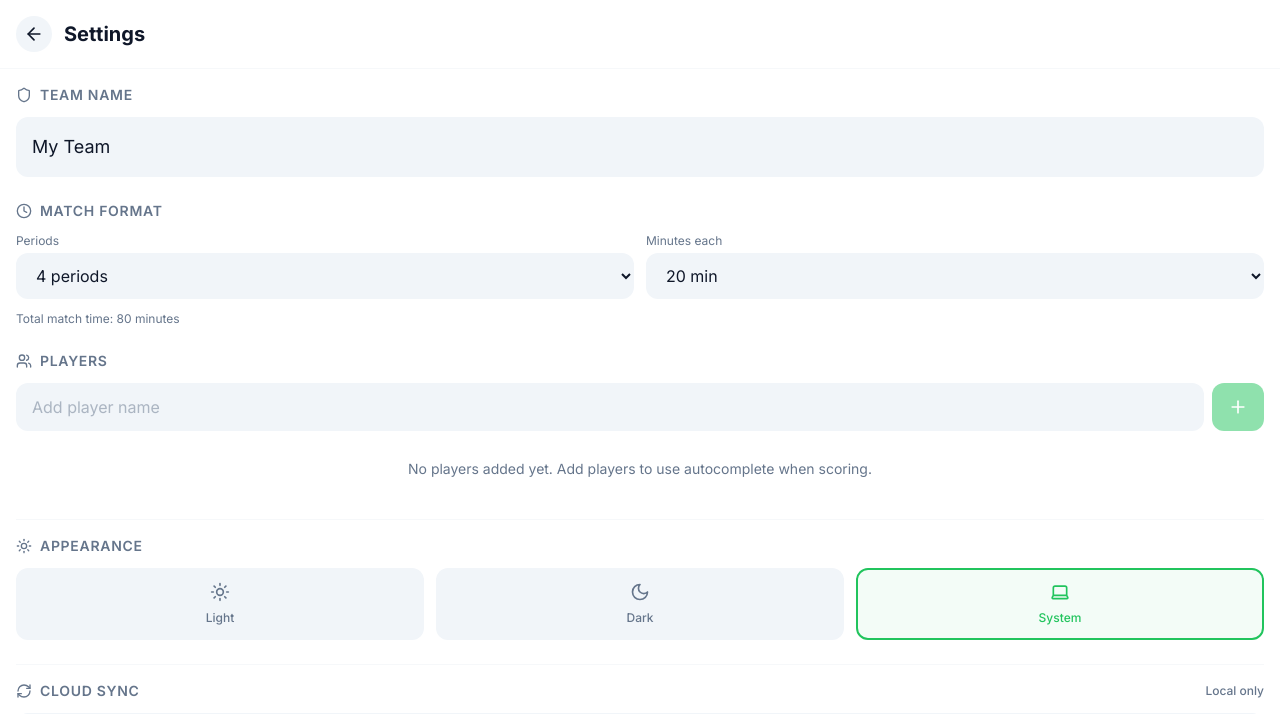
Test: SettingsScreen interactions › clears player draft only after async add succeeds
In the field with placeholder "Add player name": [610, 407] box [16,383,1204,431], type "Alice"
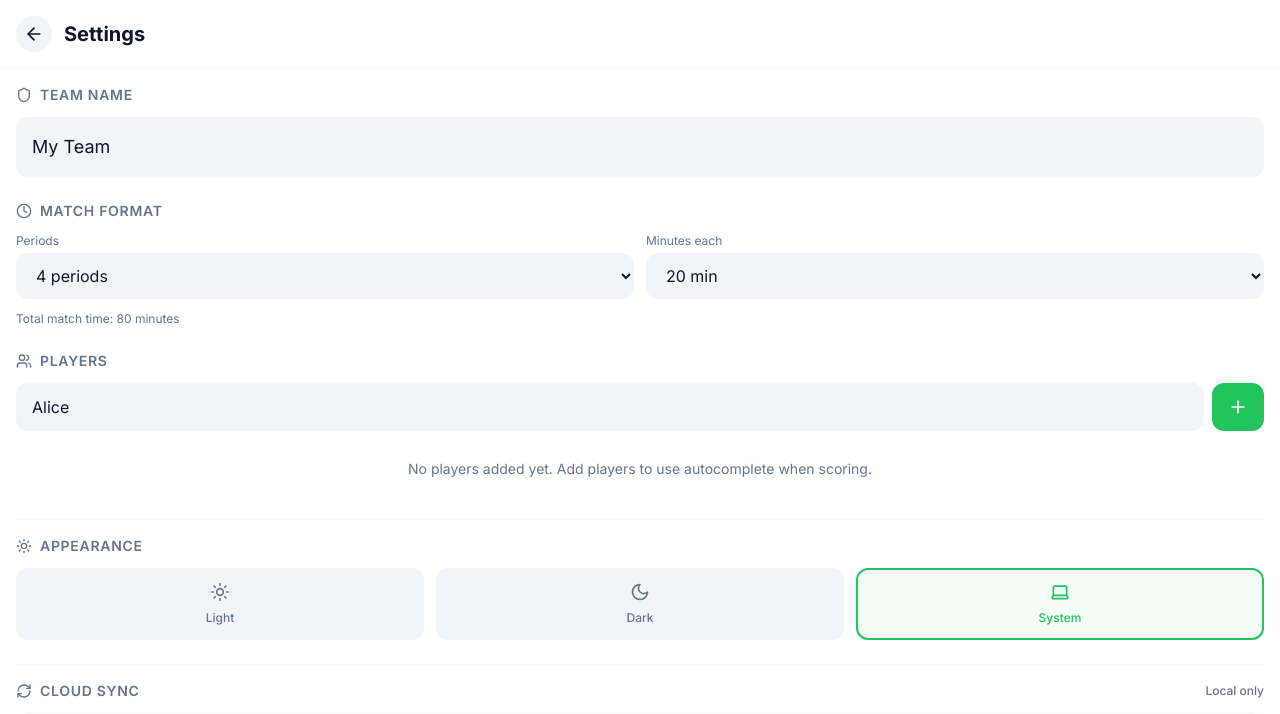
Click the 2nd button: [1238, 407] box [1212,383,1264,431]
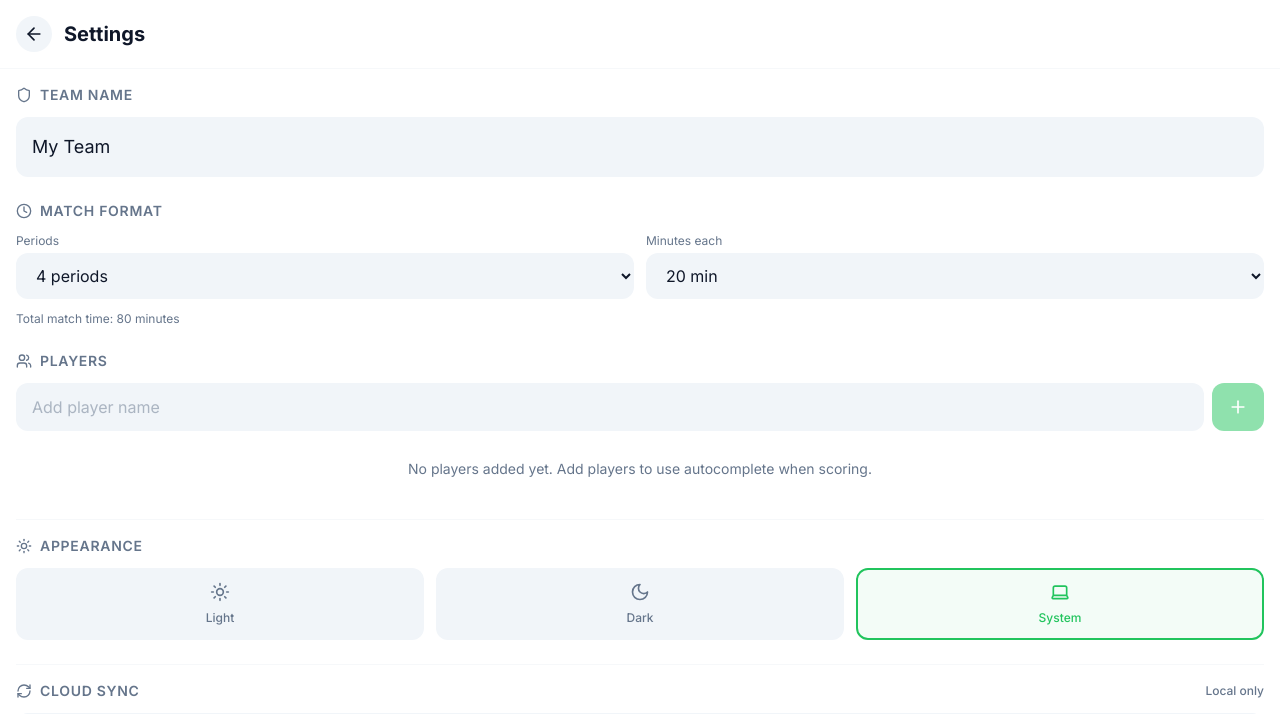
Expected: the field with placeholder "Add player name" is enabled, [16,383,1204,431]
Result: the 2nd button is disabled at [1212,383,1264,431]
Result: the field with placeholder "Add player name" is empty at [16,383,1204,431]
